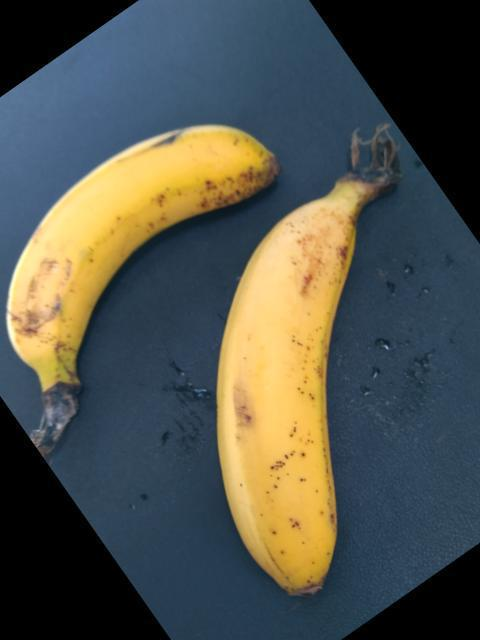ripe: (0, 101, 291, 416), (216, 193, 388, 624)
